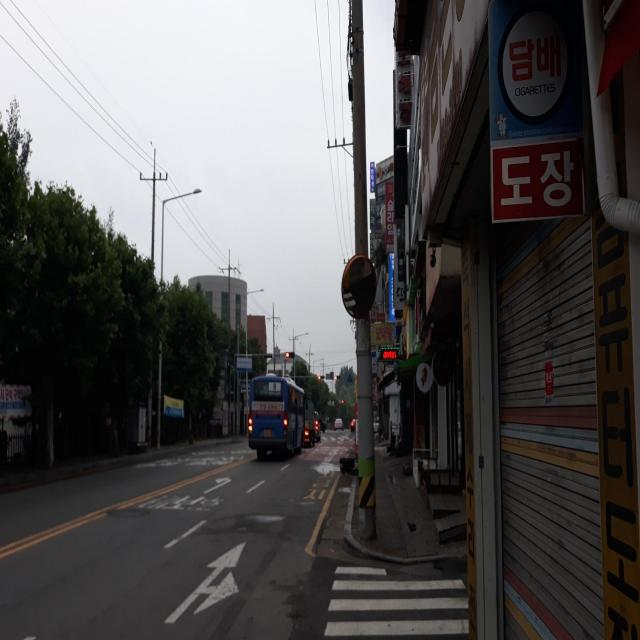횡단보도: (324, 565, 469, 637)
